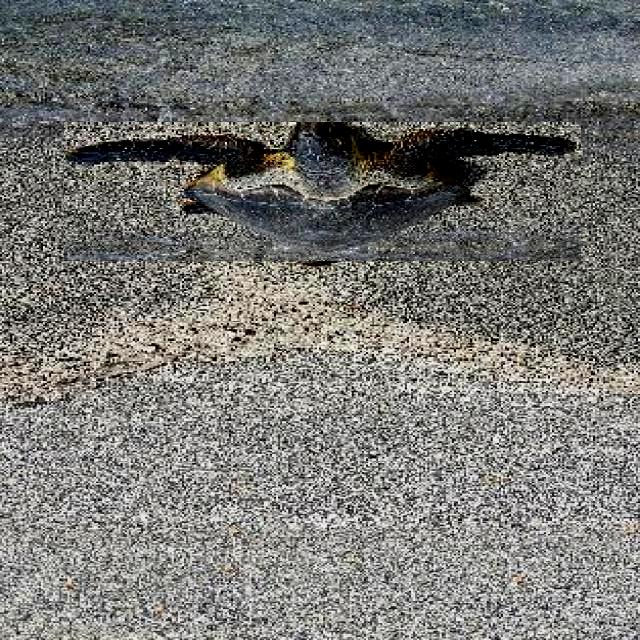Sea turtle: (64, 122, 581, 261)
